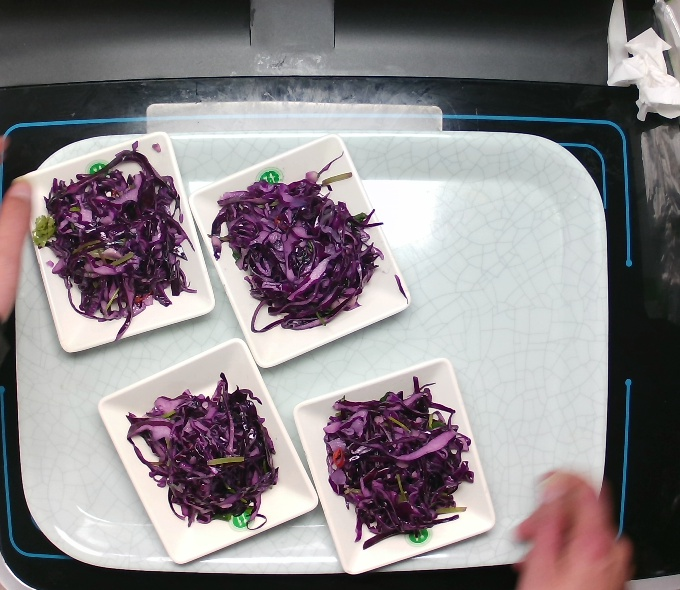wcq-ZiGanLan: (204, 148, 412, 338), (27, 136, 205, 346), (317, 372, 481, 554), (120, 367, 286, 535)
